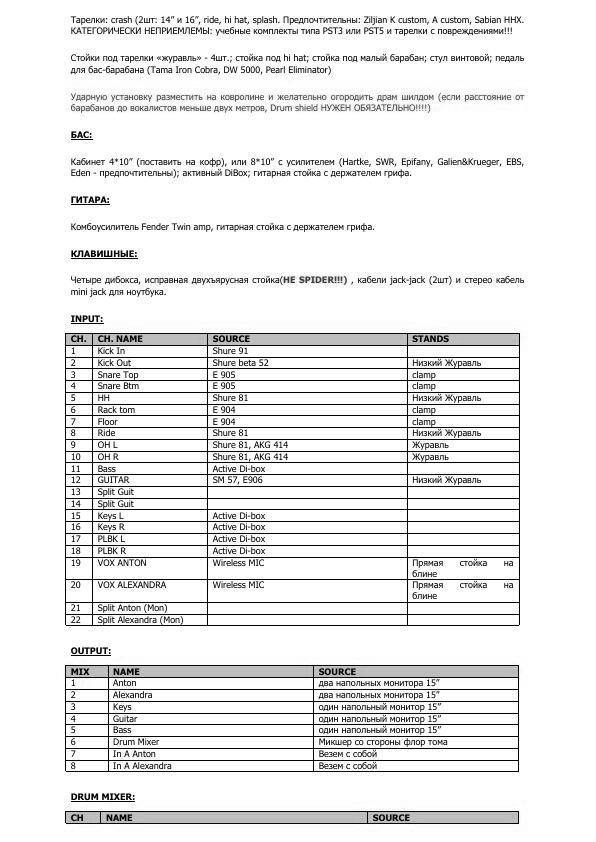table: (65, 332, 519, 628), (65, 664, 519, 773), (65, 811, 519, 824)
text: (69, 272, 524, 298), (69, 51, 525, 76), (69, 12, 524, 37), (68, 155, 524, 179), (68, 90, 525, 113), (69, 220, 377, 233), (68, 245, 139, 262), (70, 791, 137, 804), (68, 191, 112, 207), (69, 644, 112, 657), (70, 312, 106, 326), (69, 127, 94, 140)
